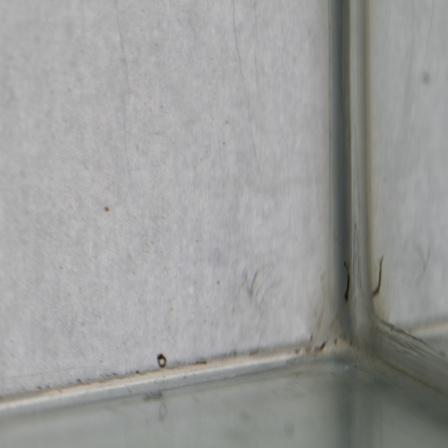Jentik-Nyamuk: (336, 260, 354, 304), (156, 349, 168, 373)
